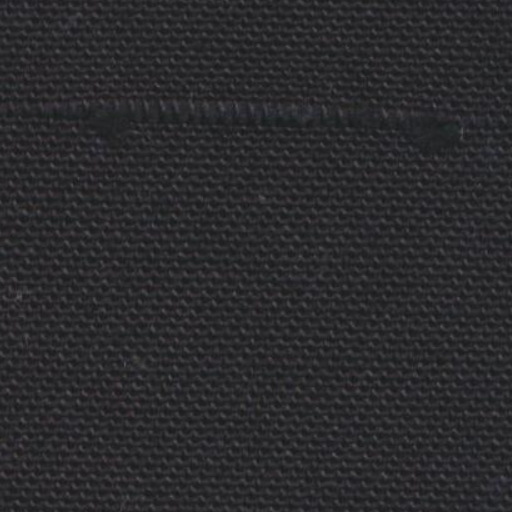DaiSha: (38, 79, 453, 142)
